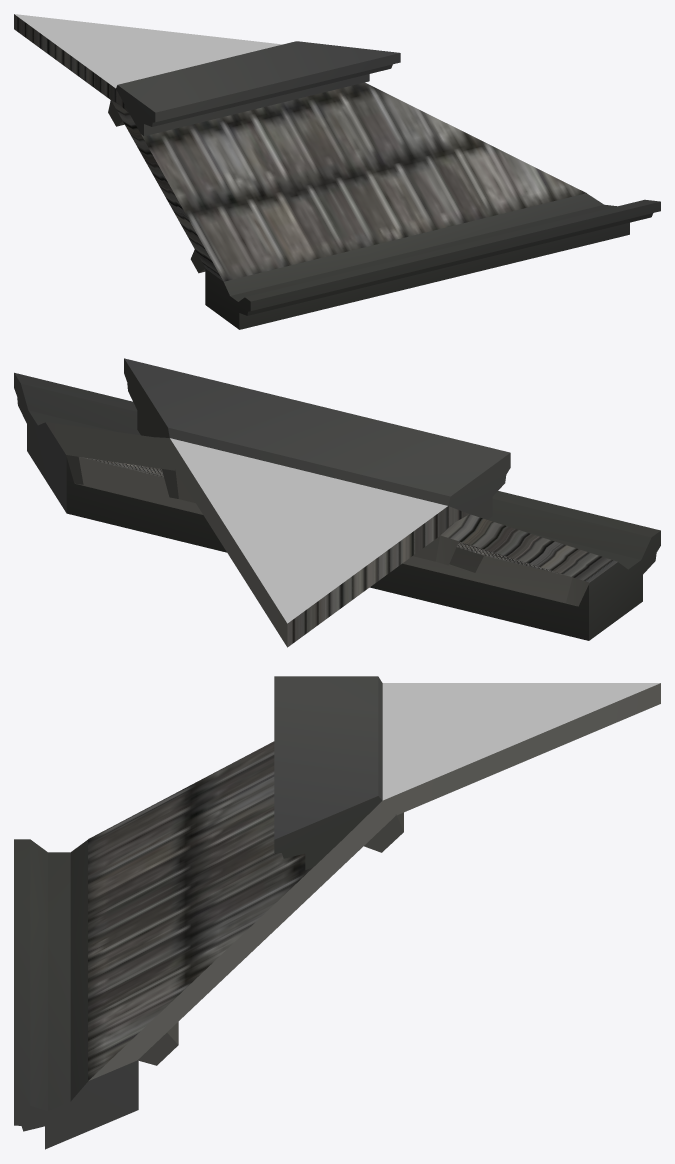
Rendered from SEMI ROOF 1.fbx.
3 views of the same model, one above another, from view 1: azimuth 30°, elevation 25°; view 2: azimuth 150°, elevation 25°; view 3: azimuth 270°, elevation 25° (orthographic). The views are drawn at different scales.
Parts seen in each view (by area): view 1: SemiRoof1; view 2: SemiRoof1; view 3: SemiRoof1.
Part boxes in pixels (<box>): SemiRoof1: <box>14,14,660,329</box>; SemiRoof1: <box>14,358,660,647</box>; SemiRoof1: <box>14,676,660,1149</box>.
Size of the model in its own units: 295 by 107 by 295.
